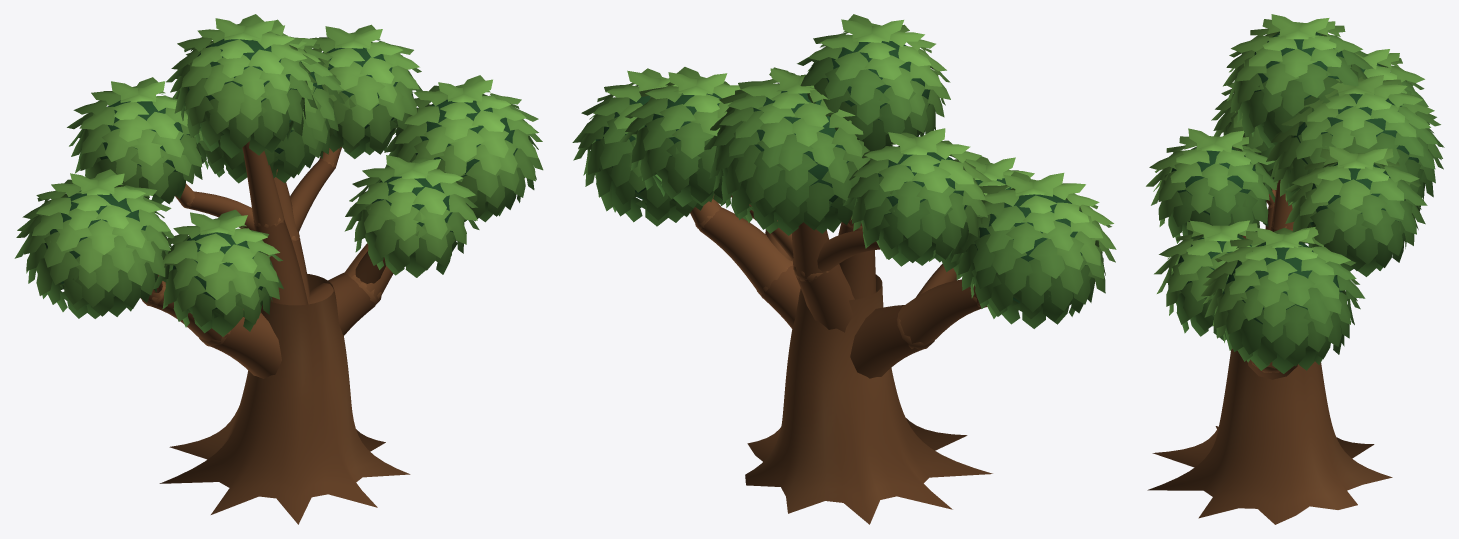
The model's file is tree_old.glb.
The picture shows the model from 3 angles, left to right: view 1: azimuth 30°, elevation 25°; view 2: azimuth 150°, elevation 25°; view 3: azimuth 270°, elevation 25°; orthographic projection. The views are drawn at different scales.
Visible parts, largest first — view 1: tree_old; view 2: tree_old; view 3: tree_old.
Part boxes in pixels (x1,y1,x2,y2): tree_old: [14, 14, 543, 524]; tree_old: [572, 14, 1116, 524]; tree_old: [1146, 14, 1444, 524].
Size of the model in its own units: 7.56 by 6.34 by 3.91.
